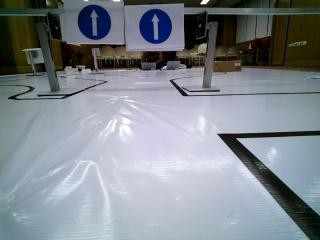straight: (69, 0, 125, 45), (126, 6, 182, 50)
